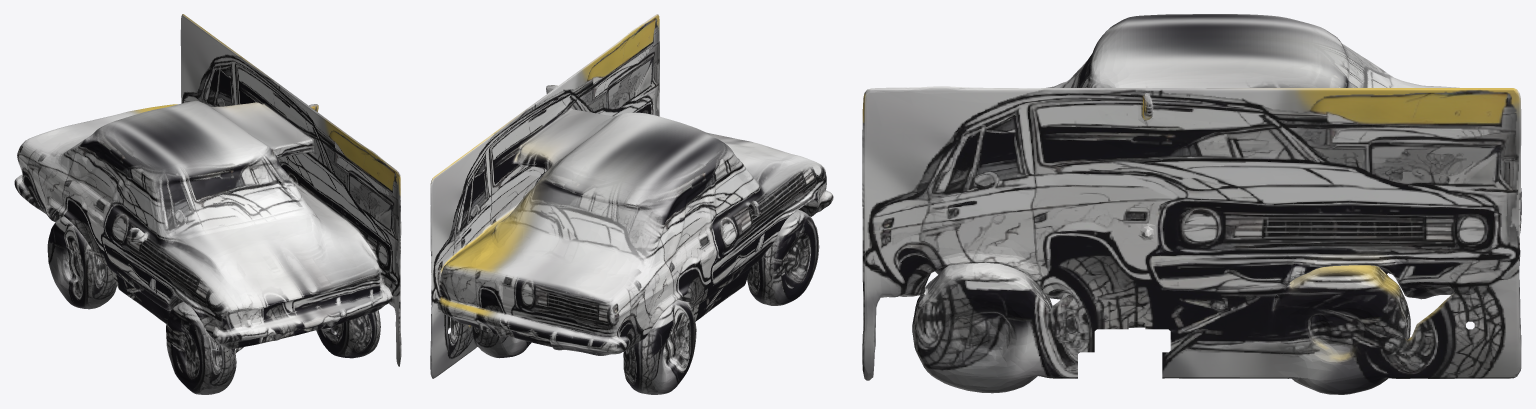
The model's file is tires.glb.
The picture shows the model from 3 angles, left to right: view 1: azimuth 30°, elevation 25°; view 2: azimuth 150°, elevation 25°; view 3: azimuth 270°, elevation 25°; orthographic projection. The views are drawn at different scales.
Visible parts, largest first — view 1: tires; view 2: tires; view 3: tires.
Part boxes in pixels (<box>): tires: <box>14,14,401,394</box>; tires: <box>430,14,833,394</box>; tires: <box>862,14,1521,394</box>.
Size of the model in its own units: 0.6242 by 0.6305 by 1.2.
1 material, 1 textured.
